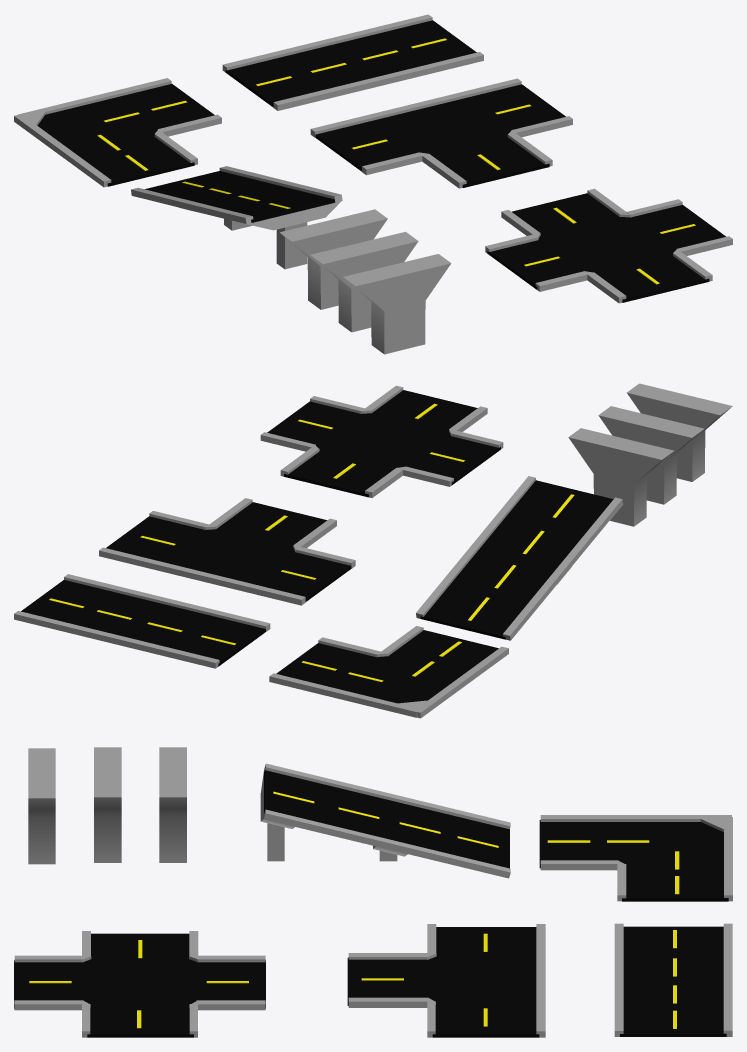
File: 3D Road Pack.fbx
3 renders of one model, top to bottom at view 1: azimuth 30°, elevation 25°; view 2: azimuth 150°, elevation 25°; view 3: azimuth 270°, elevation 25°, orthographic. The views are drawn at different scales.
Visible parts, largest first — view 1: root (×3), node_id926 (×3), node_id921, node_id931, node_id945 (×3), node_id936, node_id140, node_id273, node_id344, node_id407, node_id427, node_id928 (+6 smaller); view 2: node_id945, root (×3), node_id926, node_id931, node_id921, node_id936, node_id140, node_id273, node_id407, node_id344, node_id928, node_id426 (+5 smaller); view 3: node_id926 (×3), node_id921 (×4), node_id931, node_id945 (×2), root (×3), node_id936, node_id273, node_id140, node_id344, node_id407, node_id546, node_id544 (+7 smaller).
Boxes of the visible parts, x1,y1,x2,y2 form: root (×3): [280, 209, 451, 354]; node_id926 (×3): [315, 84, 572, 175]; node_id921: [487, 205, 725, 289]; node_id931: [225, 20, 476, 107]; node_id945 (×3): [145, 171, 340, 269]; node_id936: [37, 84, 214, 153]; node_id140: [62, 125, 194, 186]; node_id273: [430, 135, 549, 187]; node_id344: [595, 254, 709, 302]; node_id407: [512, 193, 623, 237]; node_id427: [273, 52, 483, 110]; node_id928: [310, 78, 521, 137]; node_id945: [420, 480, 613, 639]; root (×3): [568, 383, 732, 526]; node_id926: [106, 516, 351, 601]; node_id931: [21, 580, 265, 666]; node_id921: [267, 401, 500, 485]; node_id936: [276, 643, 460, 703]; node_id140: [370, 630, 498, 685]; node_id273: [210, 502, 327, 550]; node_id407: [284, 450, 394, 497]; node_id344: [366, 390, 477, 433]; node_id928: [99, 547, 305, 605]; node_id426: [14, 611, 219, 668]; node_id926 (×3): [348, 927, 539, 1037]; node_id921 (×4): [14, 933, 265, 1037]; node_id931: [620, 926, 726, 1036]; node_id945 (×2): [264, 770, 509, 868]; root (×3): [28, 747, 186, 864]; node_id936: [622, 822, 728, 901]; node_id273: [347, 957, 432, 1005]; node_id140: [539, 820, 649, 868]; node_id344: [14, 960, 87, 1008]; node_id407: [194, 960, 265, 1008]; node_id546: [263, 809, 510, 878]; node_id544: [264, 763, 510, 828].
Bounding box in the file's own units: 2.23 × 0.3841 × 3.12.
Materials: 58 (58 with a texture image).
